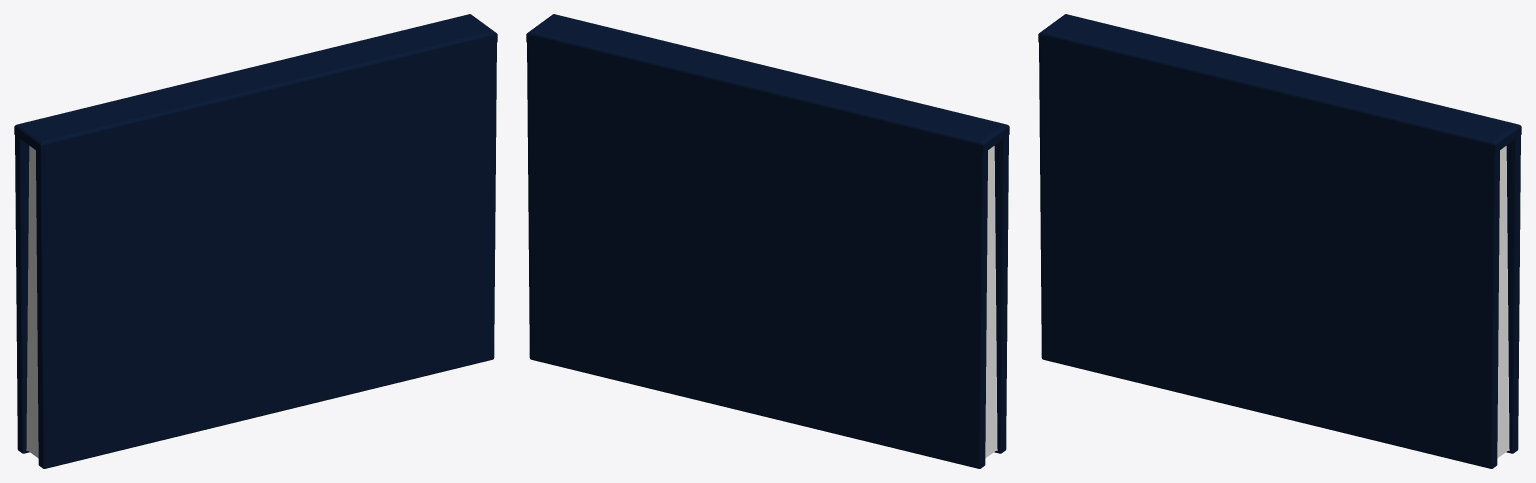
The model's file is book.glb.
3 views of the same model, side by side, from view 1: azimuth 30°, elevation 25°; view 2: azimuth 150°, elevation 25°; view 3: azimuth 330°, elevation 25° (orthographic).
Parts seen in each view (by area): view 1: Pages__0; view 2: Pages__0; view 3: Pages__0.
Part boxes in pixels (bbox=[...]): Pages__0: bbox=[14, 14, 497, 468]; Pages__0: bbox=[526, 14, 1009, 468]; Pages__0: bbox=[1038, 14, 1521, 468].
Size of the model in its own units: 3.07 by 2.1 by 0.3062.
